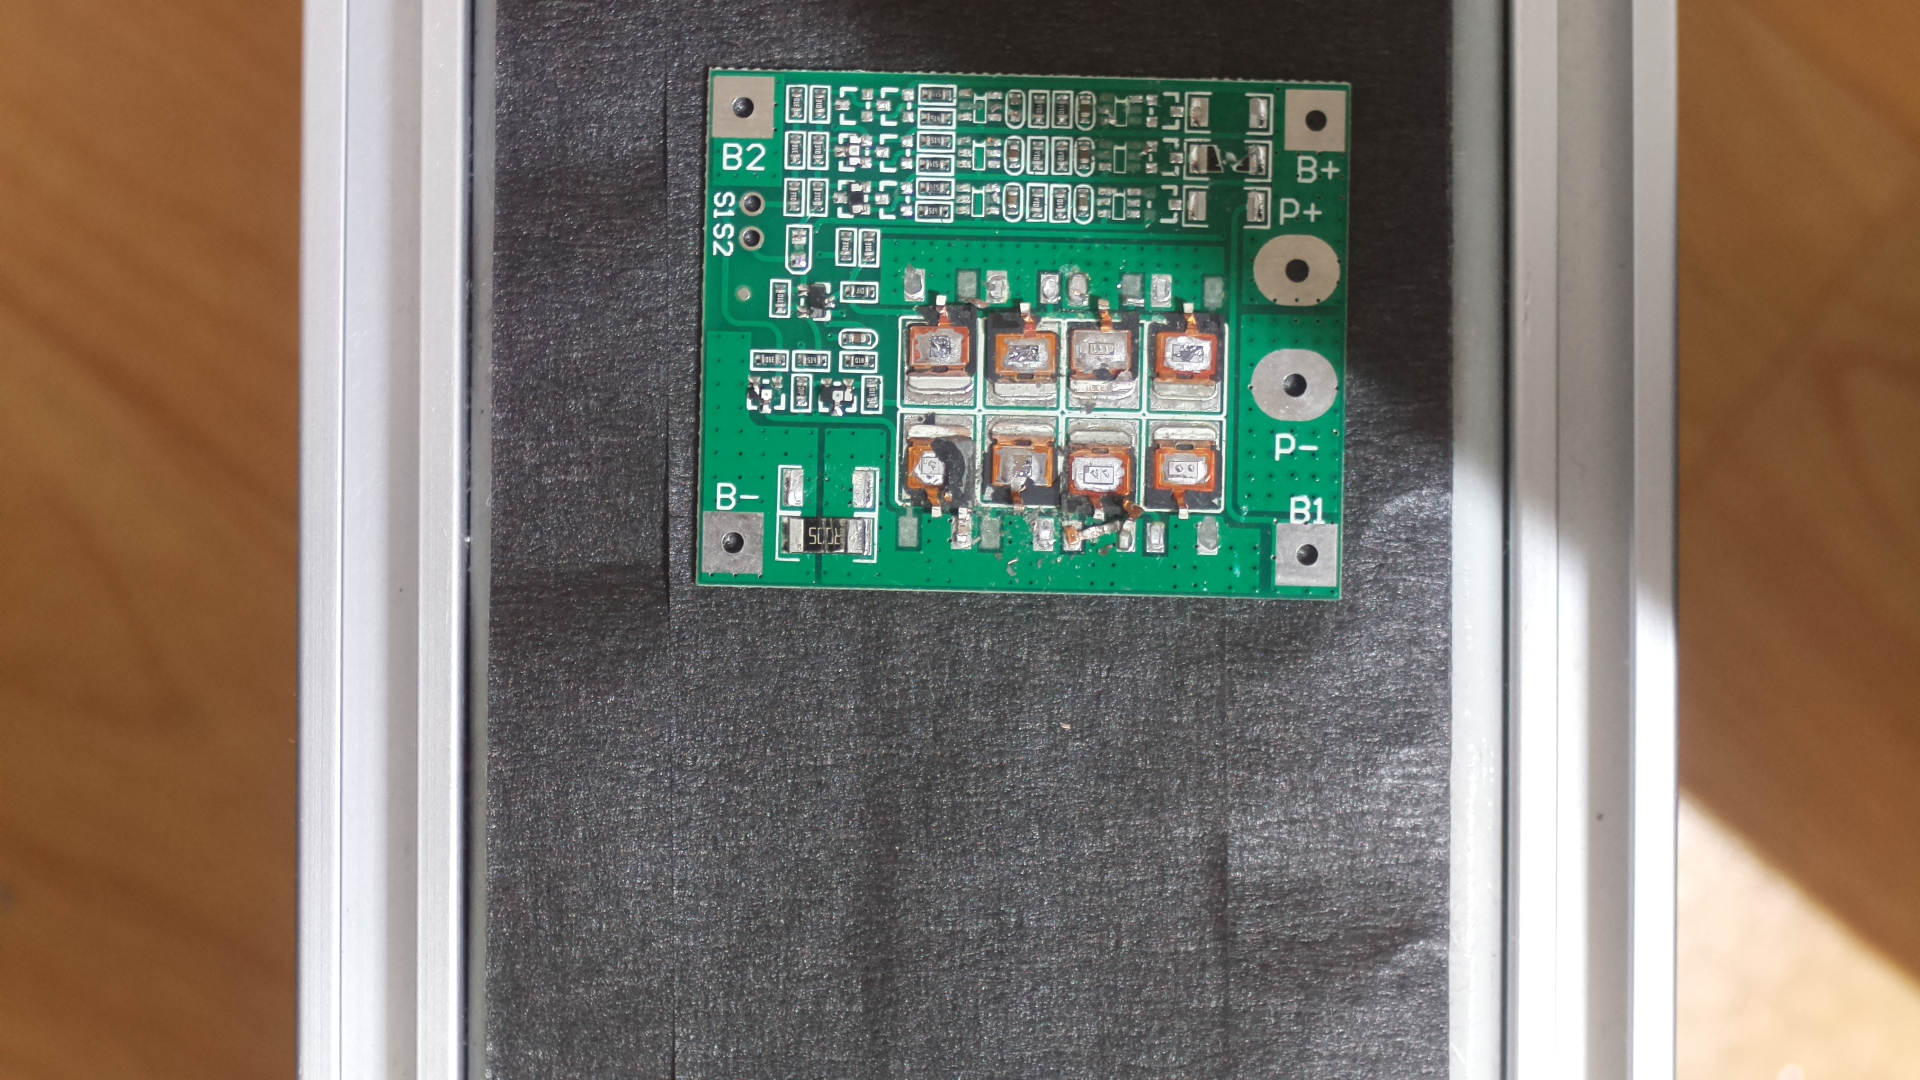C_Missing_part: (698, 51, 1364, 634)
